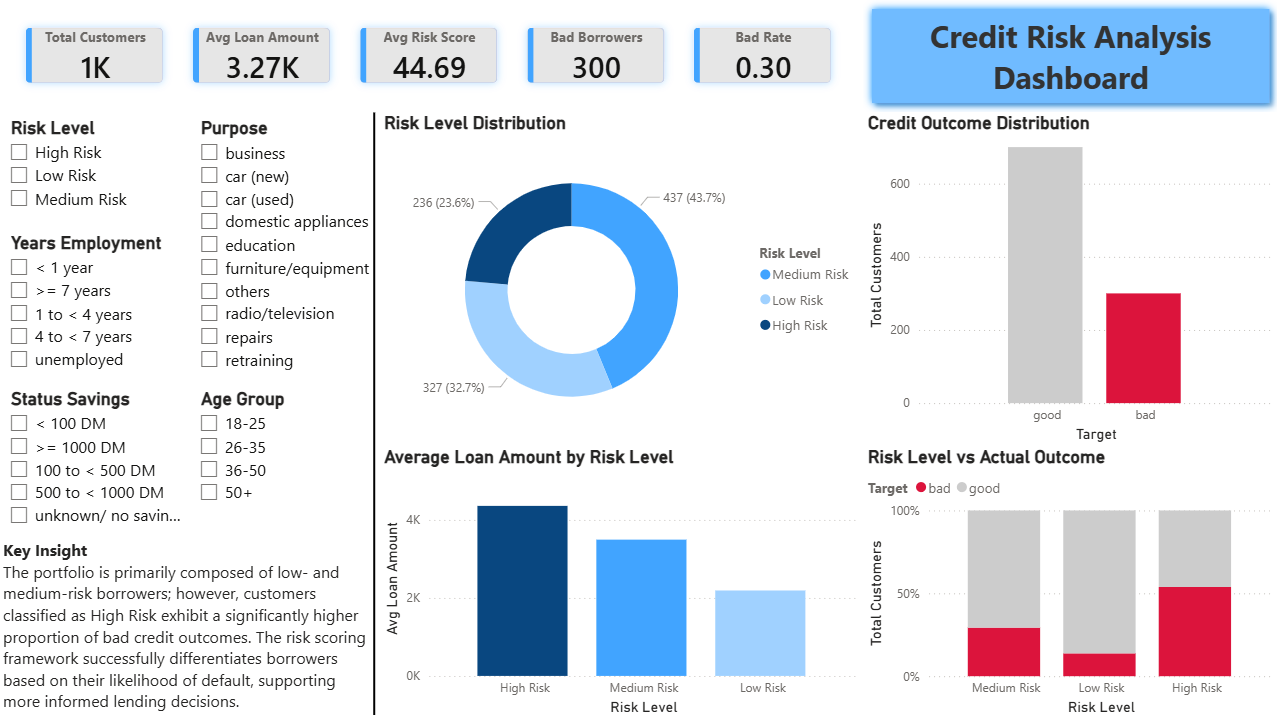

The page's visual inventory and layout, read from the dashboard file:
{"tool":"powerbi","page":{"name":"Executive Overview","canvas":[1280,720],"ordinal":0},"visuals":[{"type":"cardVisual","fields":{"Data":["Sheet1.Total Customers","Sheet1.Avg Loan Amount","Sheet1.Avg Risk Score","Sheet1.Bad Borrowers","Sheet1.Bad Rate %"]},"box":[0,0,864.6,112],"z":0},{"type":"donutChart","title":"Risk Level Distribution","fields":{"Category":["Sheet1.risk_level"],"Y":["CountNonNull(Sheet1.risk_level)"]},"box":[380.7,112,483.9,334.6],"z":1000},{"type":"columnChart","title":"Credit Outcome Distribution","fields":{"Category":["Sheet1.target"],"Y":["CountNonNull(Sheet1.target)"]},"box":[864.6,112,415.5,334.6],"z":2000},{"type":"hundredPercentStackedColumnChart","title":"Risk Level vs Actual Outcome","fields":{"Category":["Sheet1.risk_level"],"Series":["Sheet1.target"],"Y":["CountNonNull(Sheet1.risk_level)"]},"box":[864.6,446.6,415.5,273.7],"z":3000},{"type":"clusteredColumnChart","title":"Average Loan Amount by Risk Level","fields":{"Category":["Sheet1.risk_level"],"Y":["Sheet1.Avg Loan Amount"]},"box":[380.7,446.6,483.9,273.7],"z":4000},{"type":"slicer","fields":{"Values":["Sheet1.risk_level"]},"box":[0,112,190.3,102],"z":5000},{"type":"slicer","fields":{"Values":["Sheet1.purpose"]},"box":[190.3,112,190.3,262.5],"z":6000},{"type":"slicer","fields":{"Values":["Sheet1.age_group"]},"box":[190.3,383.1,190.3,150.5],"z":7000},{"type":"slicer","fields":{"Values":["Sheet1.years_employment"]},"box":[0,227.6,190.3,155.5],"z":8000},{"type":"slicer","fields":{"Values":["Sheet1.status_savings"]},"box":[0,383.1,190.3,150.5],"z":9000},{"type":"shape","box":[864.6,0,415.5,112],"z":10000},{"type":"textbox","box":[0,533.7,380.7,186.6],"z":10001},{"type":"shape","box":[370.7,112,10,608.3],"z":10002}]}

Visuals, with their boxes in screenshot pixels (x1, y1, x2, y2), scaled from the page's 1280x720 canvas onto the 1277x715 screenshot:
cardVisual - Sheet1.Total Customers x Sheet1.Avg Loan Amount: Rect(0, 0, 863, 111)
"Risk Level Distribution" donutChart: Rect(380, 111, 863, 443)
"Credit Outcome Distribution" columnChart: Rect(863, 111, 1276, 443)
"Risk Level vs Actual Outcome" hundredPercentStackedColumnChart: Rect(863, 443, 1276, 714)
"Average Loan Amount by Risk Level" clusteredColumnChart: Rect(380, 443, 863, 714)
slicer - Sheet1.risk_level: Rect(0, 111, 190, 213)
slicer - Sheet1.purpose: Rect(190, 111, 380, 372)
slicer - Sheet1.age_group: Rect(190, 380, 380, 530)
slicer - Sheet1.years_employment: Rect(0, 226, 190, 380)
slicer - Sheet1.status_savings: Rect(0, 380, 190, 530)
shape: Rect(863, 0, 1276, 111)
textbox: Rect(0, 530, 380, 714)
shape: Rect(370, 111, 380, 714)
